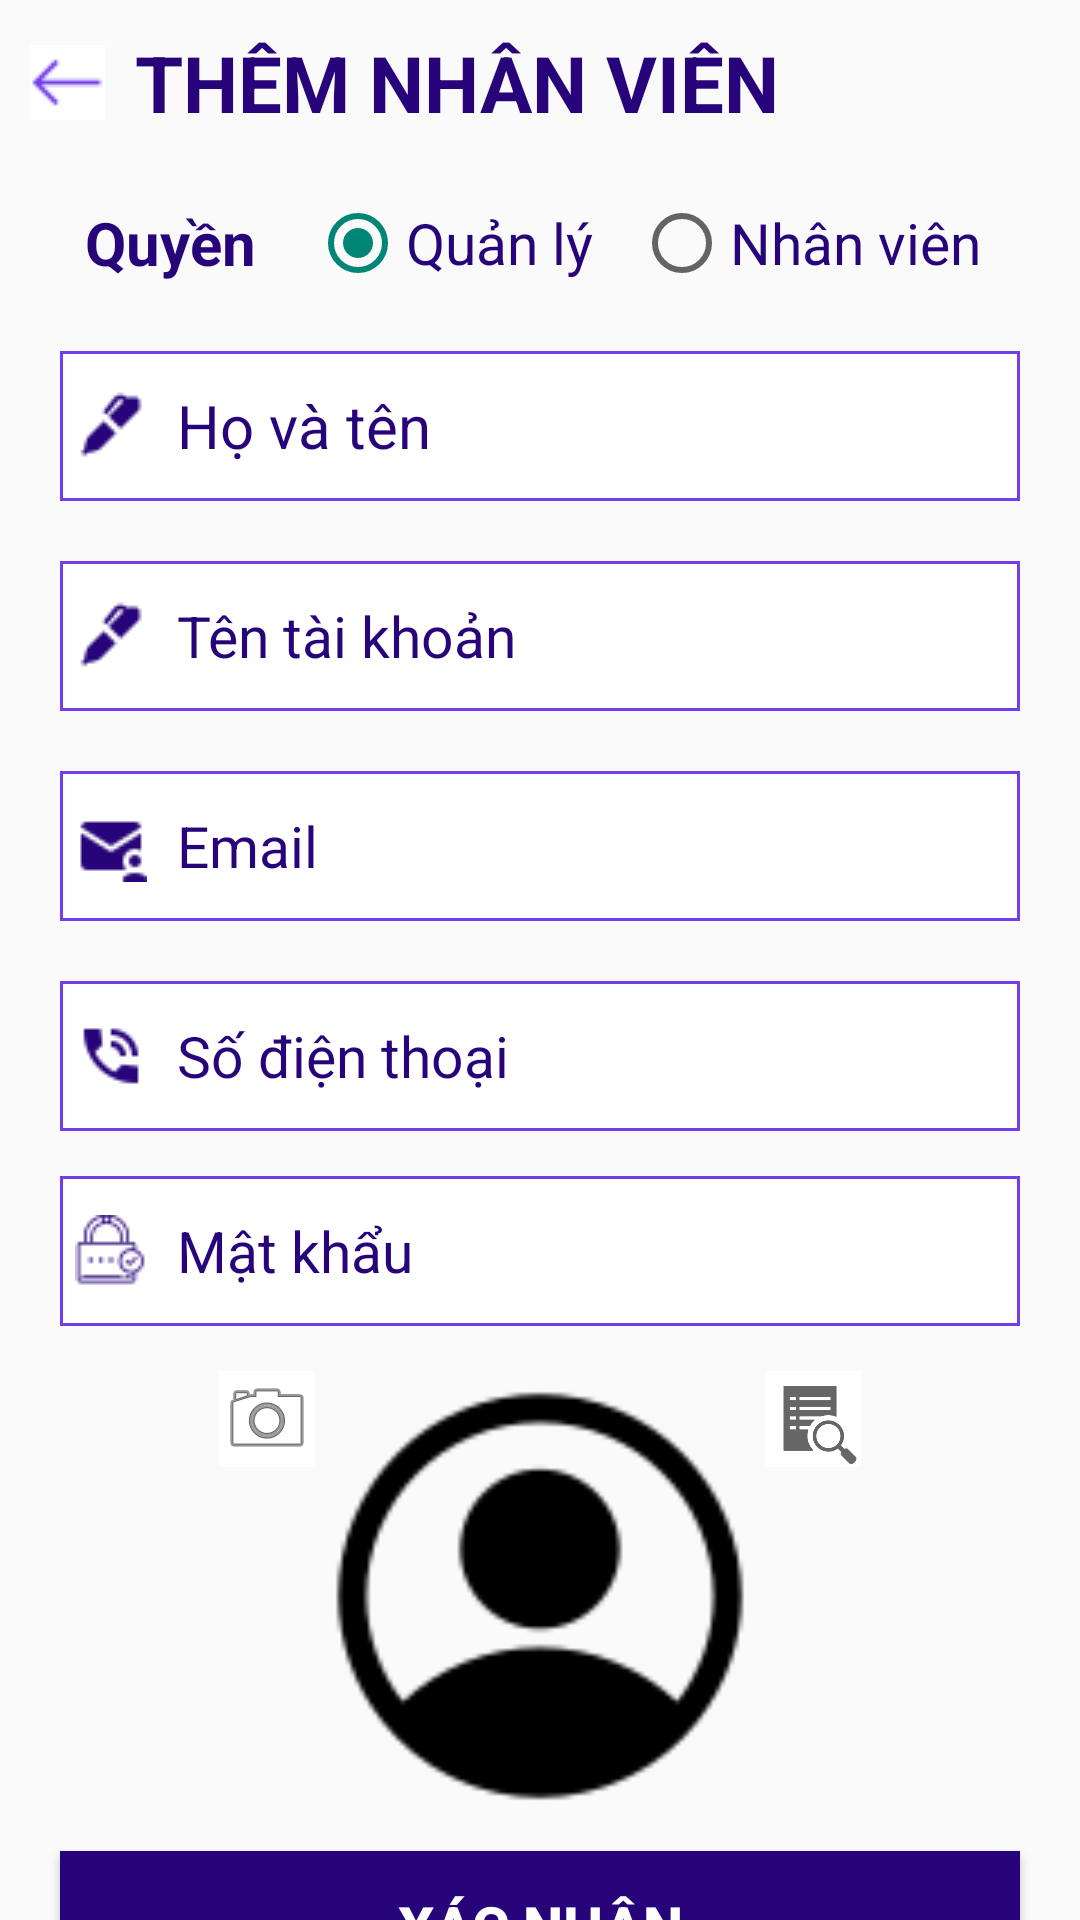

Icons on this 1080 x 1920 Android screen, each with the point to tap as (x=x, y=y):
camera: (x=267, y=1417)
